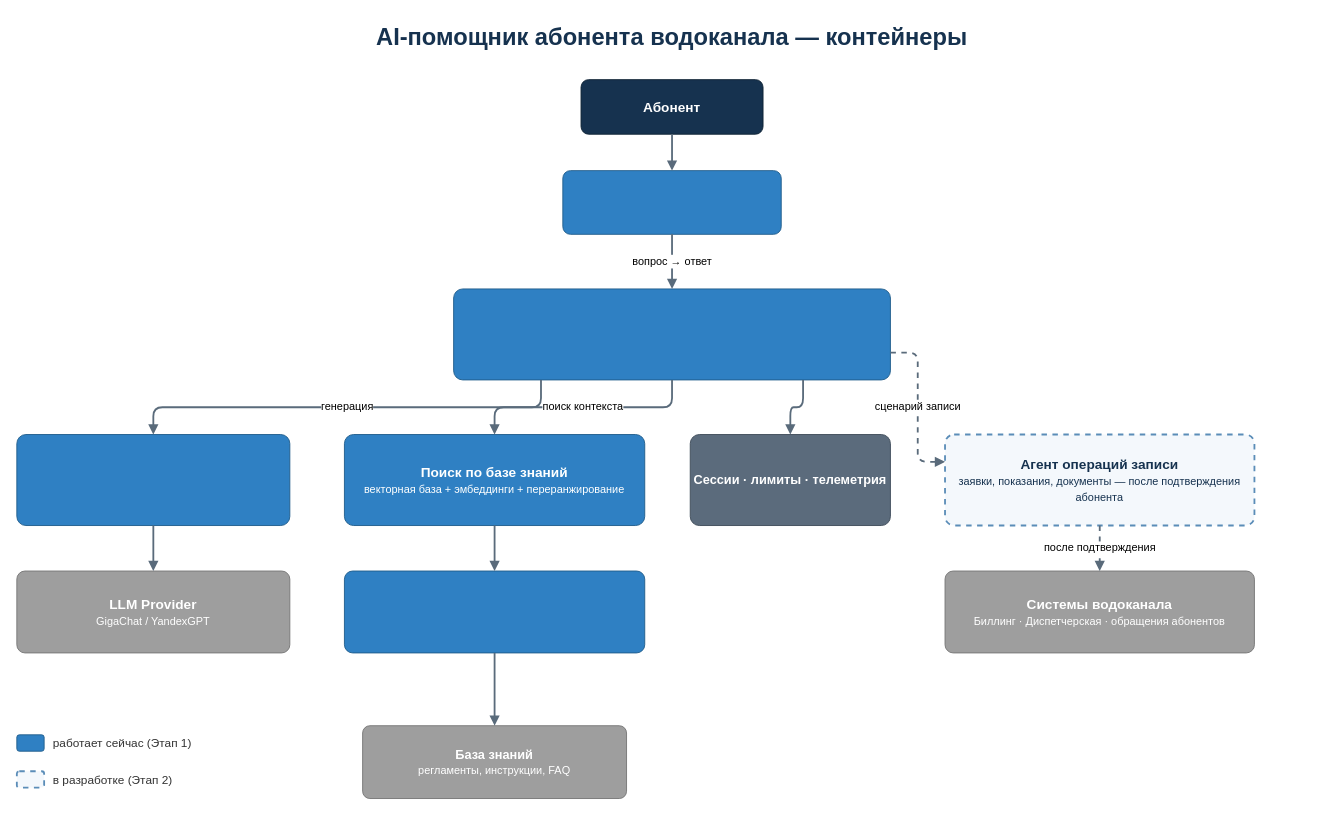
This 1342x814 diagram has some shape labels left out. Each missing label, with the centre of its shape:
AI-виджет в ЛК: (x=671, y=202)
API Gateway / Backend классификация, поиск, сборка ответа: (x=671, y=334)
LLM Gateway обезличивание, лимиты, проверка ответа: (x=153, y=480)
Индексация документов загрузка и обработка базы знаний: (x=494, y=611)
